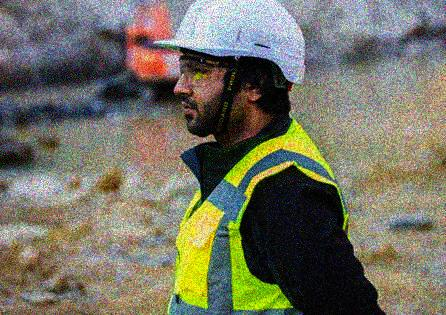helmet: (155, 1, 309, 134)
